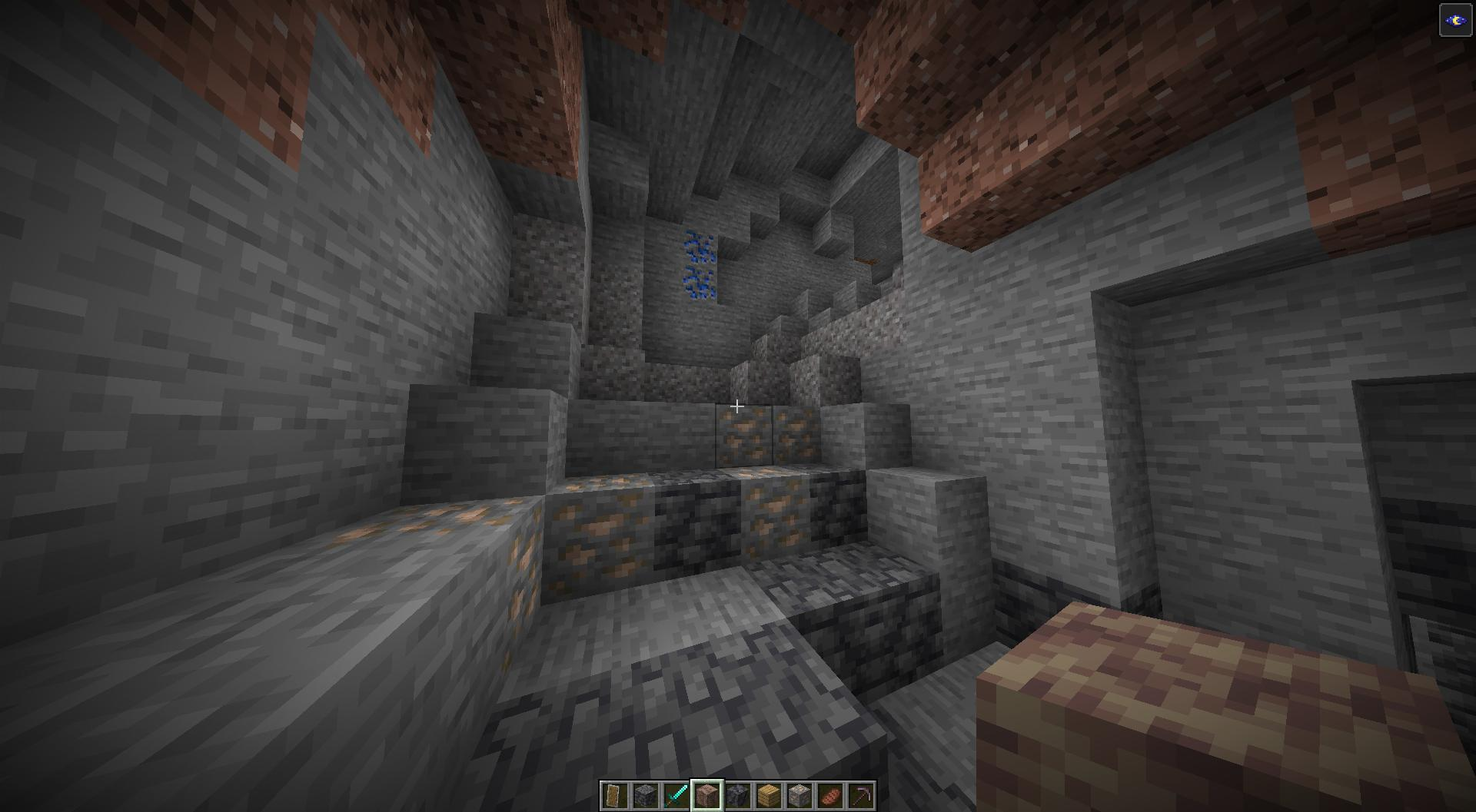iron ore: (554, 494, 652, 587), (340, 495, 527, 539), (505, 503, 543, 660), (739, 473, 810, 557), (723, 403, 775, 471), (768, 402, 819, 468)
